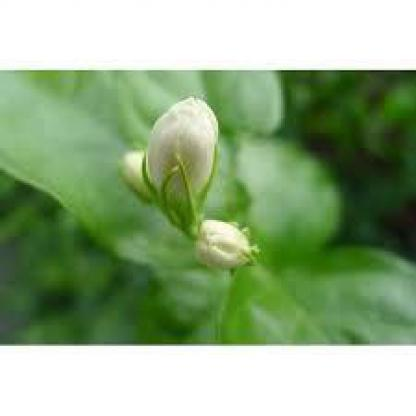Melati: (108, 82, 286, 273)
